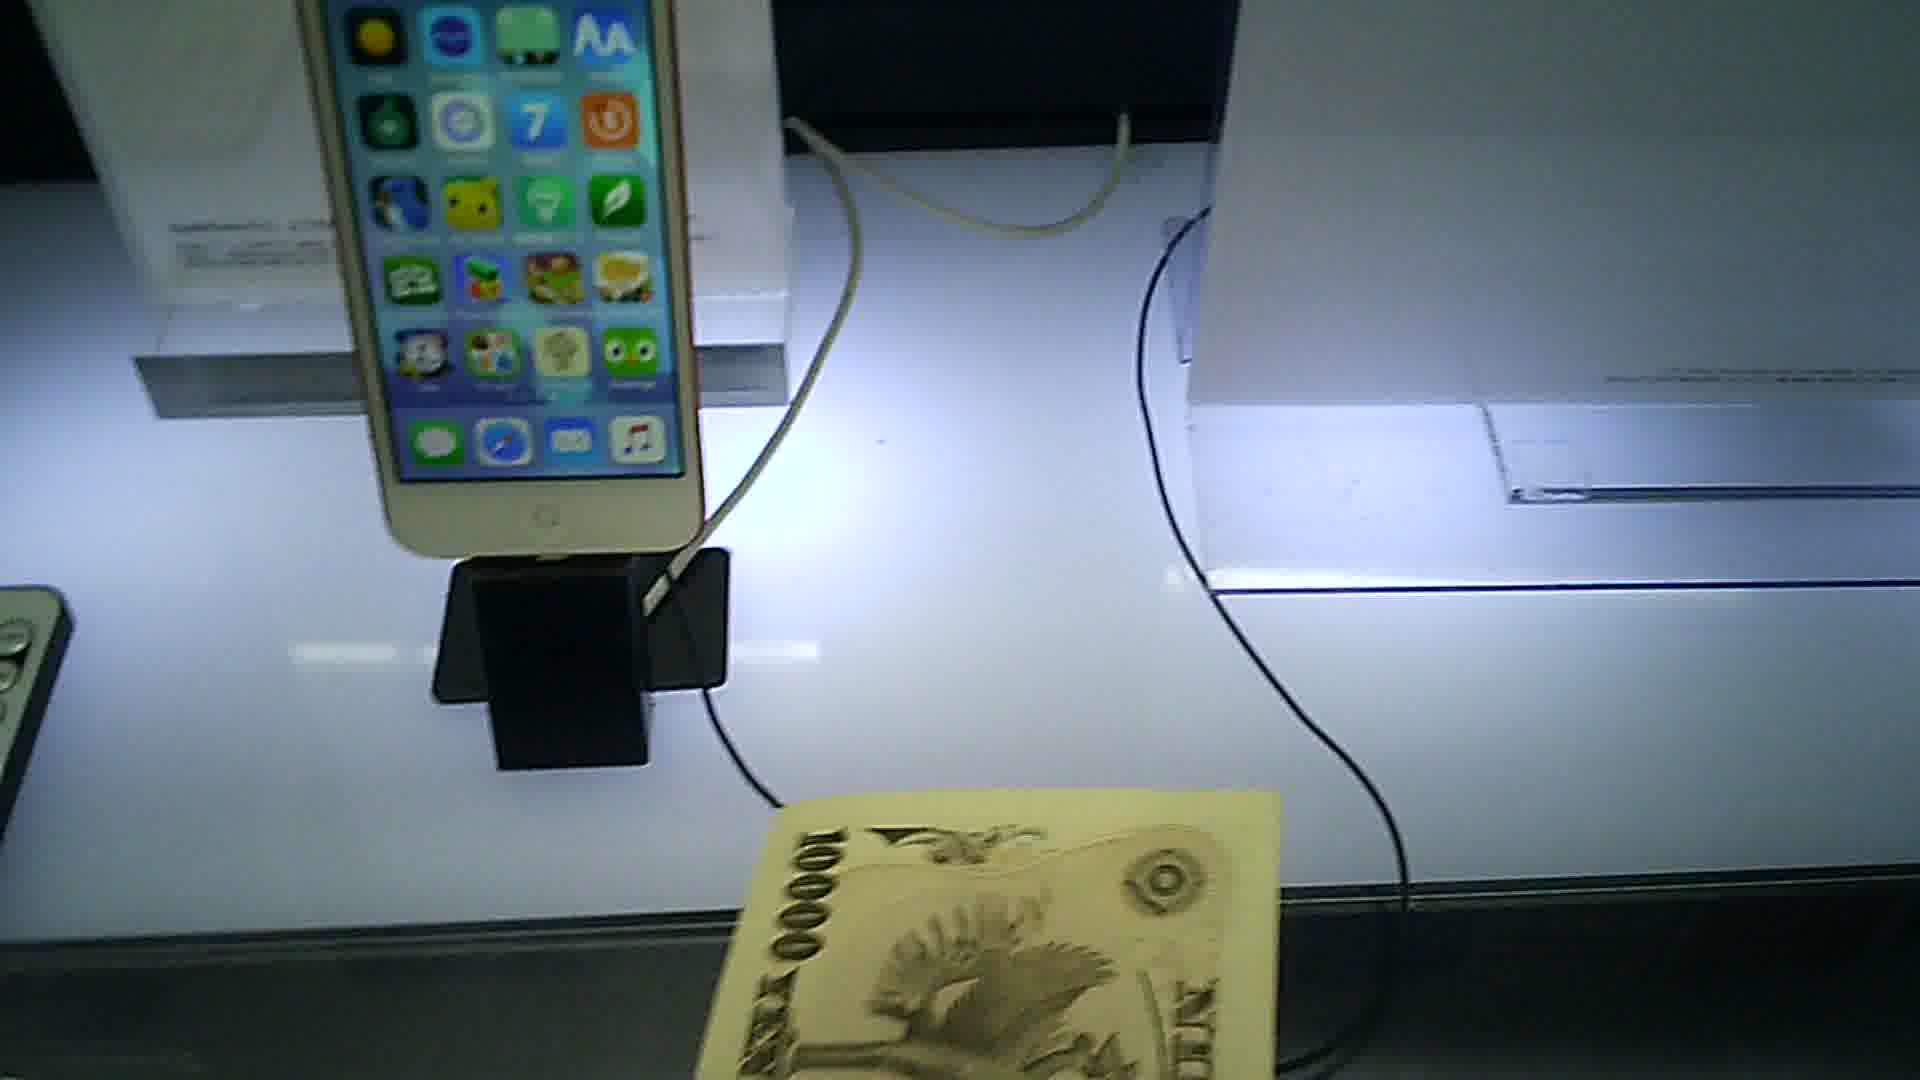10,000 Yen: (721, 786, 1328, 1079)
